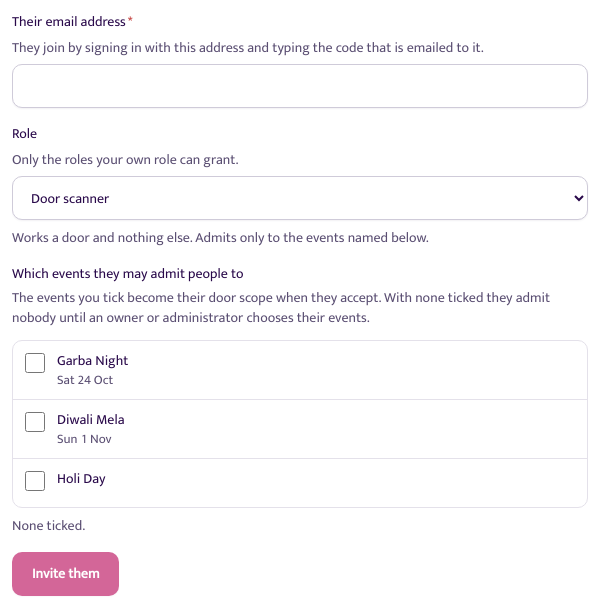
Test: the invite form › lists each event on its own row, title then date, and counts what is ticked
Select "Door scanner" in the dropdown labelled "Role" at (300,198), box [12,176,588,220]
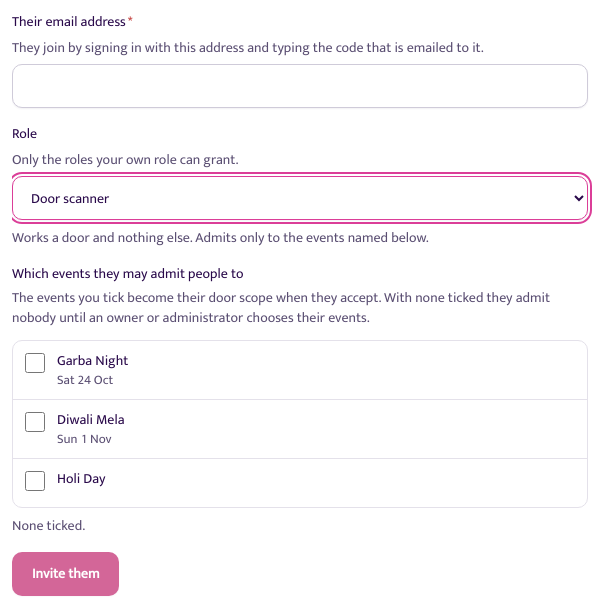
Expected: the checkbox named "Garba Night, Sat 24 Oct" is not checked, [25,353,45,373]
Expected: the text "None ticked." is shown, [12,514,85,537]
Click the checkbox named "Diwali Mela, Sun 1 Nov" at (35,422), box [25,412,45,432]
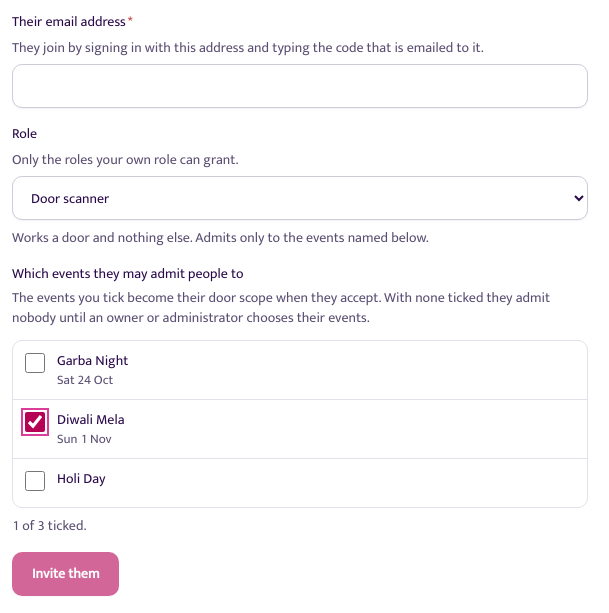
Now the text "1 of 3 ticked." is shown, box [12,514,86,537]
Click the checkbox labelled "Holi Day" at (35,481), box [25,471,45,491]
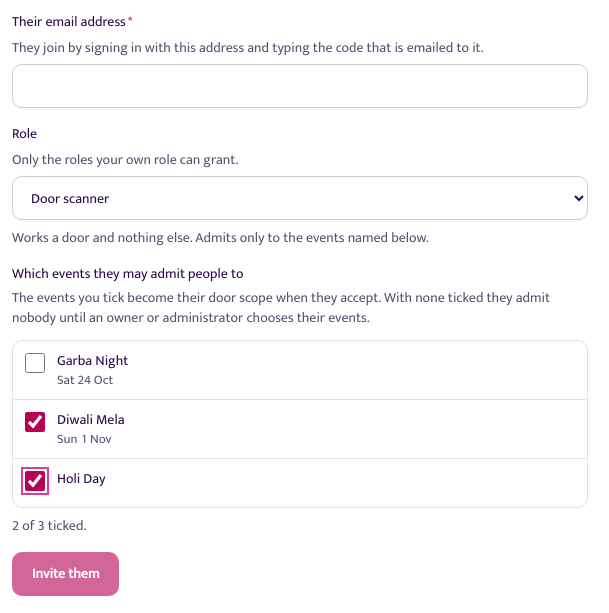
Now the text "2 of 3 ticked." is shown, box [12,514,86,537]
